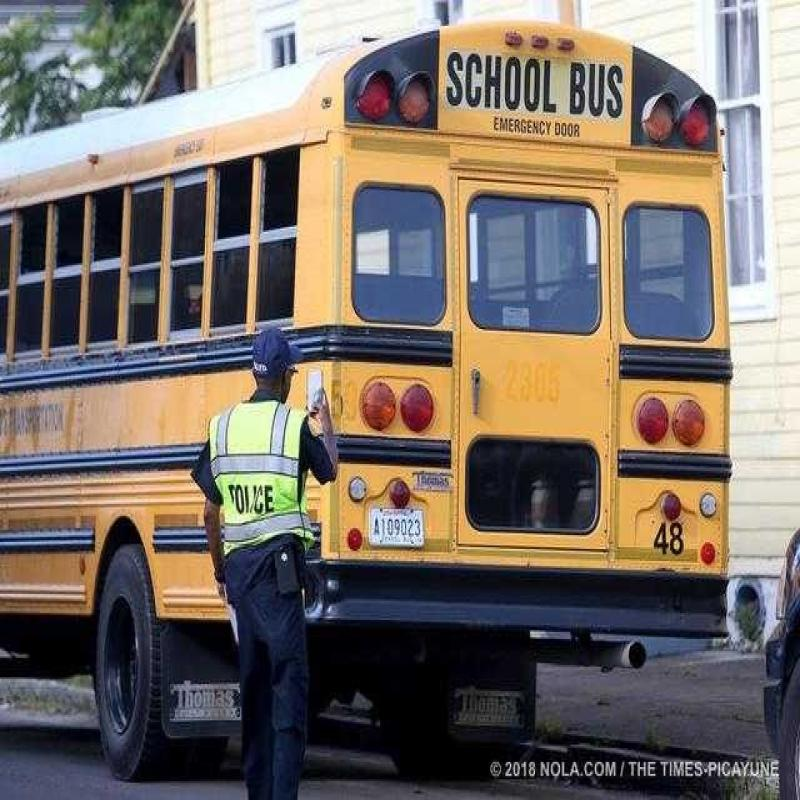bus: (0, 5, 765, 672)
